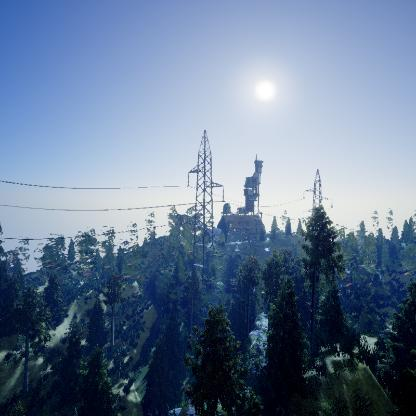tower: (185, 130, 225, 283)
